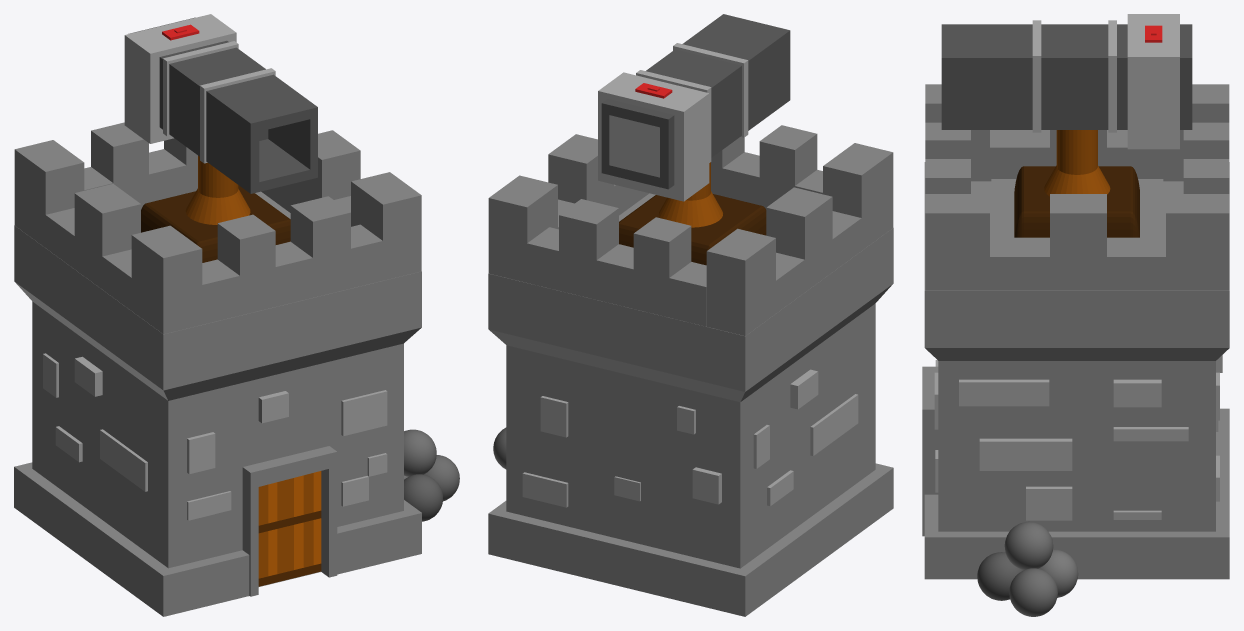
Rendered from prefab.fbx.
3 views of the same model, side by side, from view 1: azimuth 30°, elevation 25°; view 2: azimuth 150°, elevation 25°; view 3: azimuth 270°, elevation 25° (orthographic). The views are drawn at different scales.
Visible parts, largest first — view 1: Sphere.003, Cylinder; view 2: Sphere.003, Cylinder; view 3: Sphere.003, Cylinder.
Boxes of the visible parts, left/top/right/bottom form: Sphere.003: left=14, top=122, right=459, bottom=616; Cylinder: left=124, top=14, right=317, bottom=262; Sphere.003: left=488, top=125, right=893, bottom=616; Cylinder: left=598, top=14, right=790, bottom=265; Sphere.003: left=922, top=84, right=1229, bottom=616; Cylinder: left=941, top=14, right=1192, bottom=237.
Size of the model in its own units: 643 by 843 by 484.
